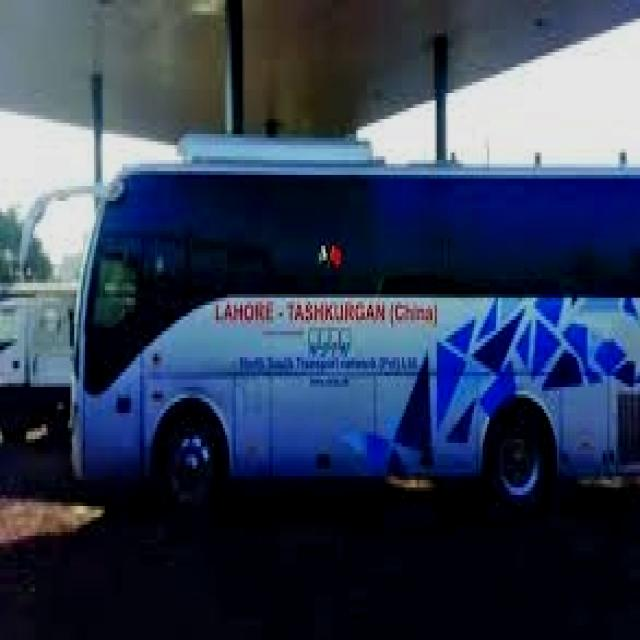bus: (11, 131, 639, 522)
